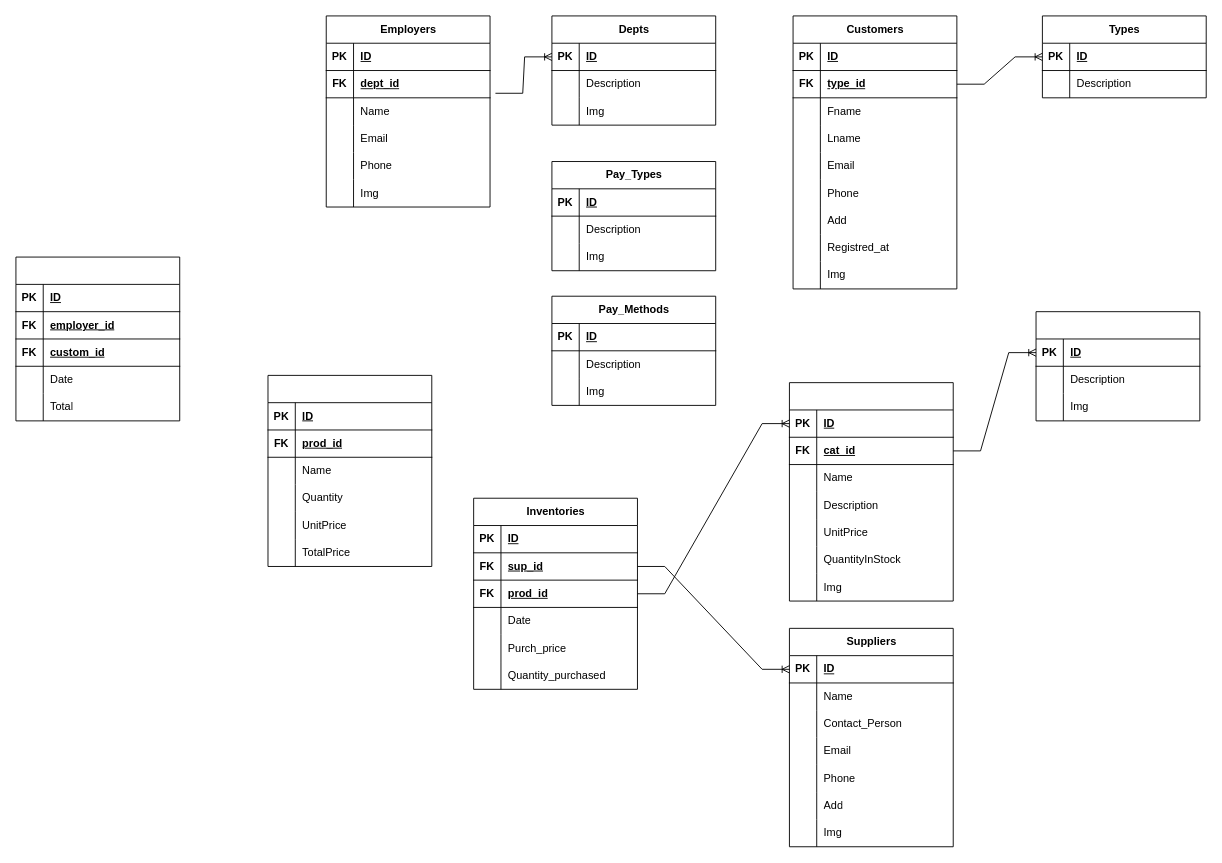
This 1222x863 diagram has some shape labels left out. The box of each missing label's shape, as (x1, y1, x2, y2) in pixels:
Categories: (1035, 311, 1200, 421)
Invoices: (15, 256, 180, 421)
Products: (789, 382, 953, 601)
Sale_Items: (267, 374, 432, 566)
